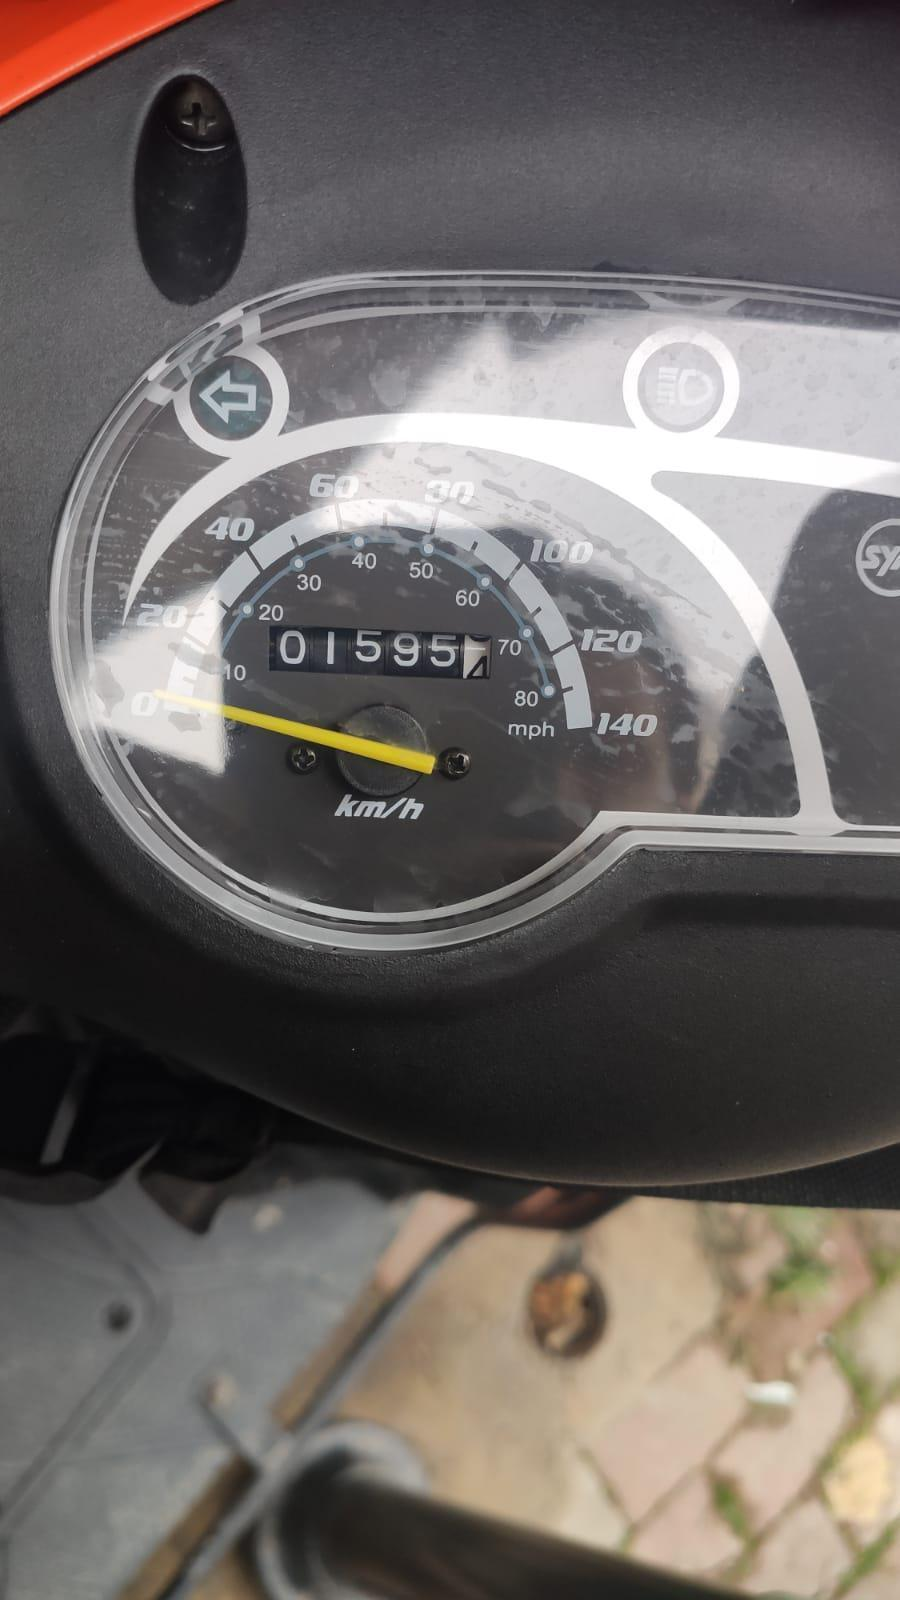0: (279, 629, 305, 664)
1: (326, 630, 335, 665)
4: (466, 654, 491, 685)
5: (354, 629, 384, 663), (429, 633, 456, 668)
9: (392, 632, 419, 667)
odometer: (265, 620, 497, 686)
